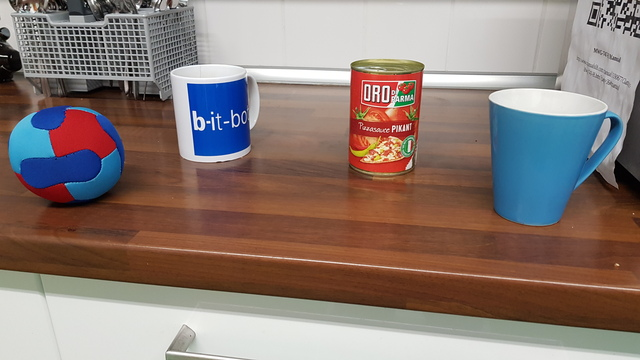005_tomato_soup_can: (348, 58, 426, 178)
025_mug: (486, 88, 624, 227), (167, 63, 261, 163)
057_racquetball: (8, 106, 126, 204)
